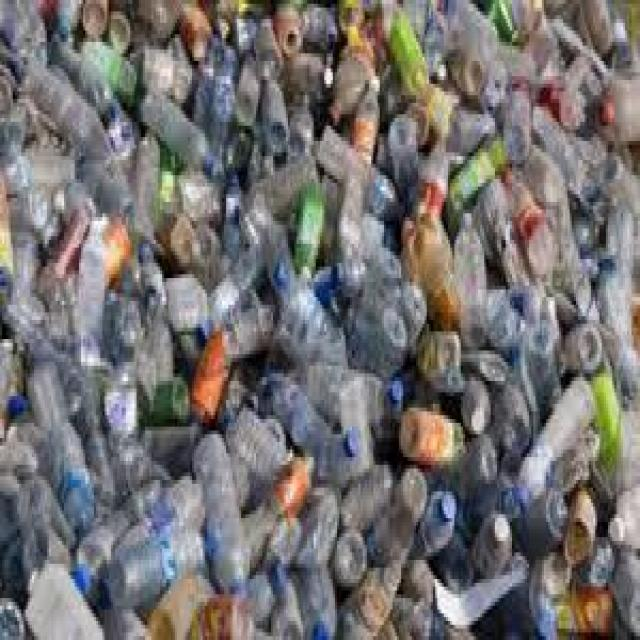heap: (12, 20, 626, 640)
